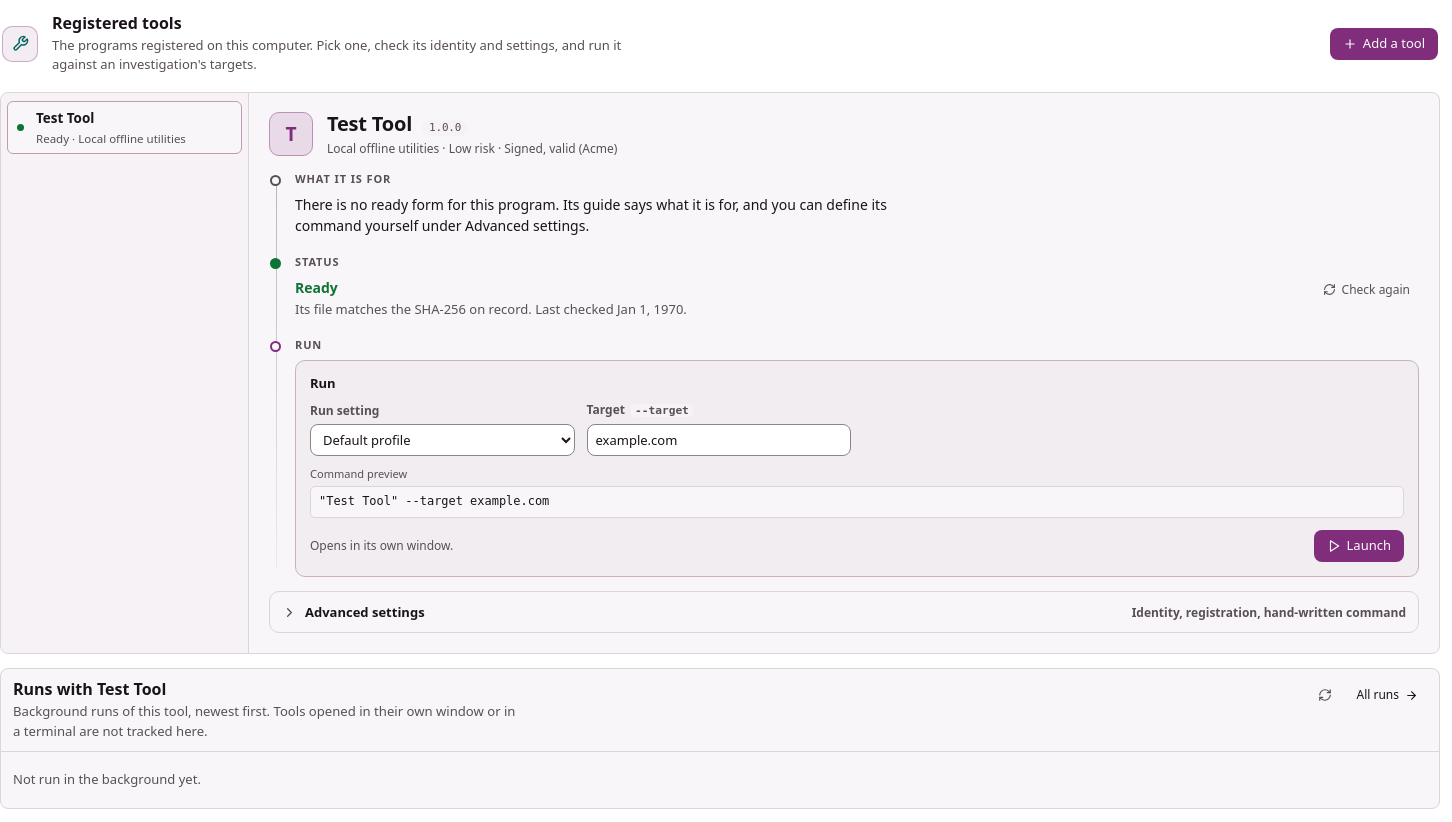
it: ToolLabPanel Launch router › launchKind "gui" opens the tool as a detached external process via supervisor.launchDetached
Step 1. Click the button "Launch" → (1359,546), box left=1314, top=530, right=1404, bottom=562
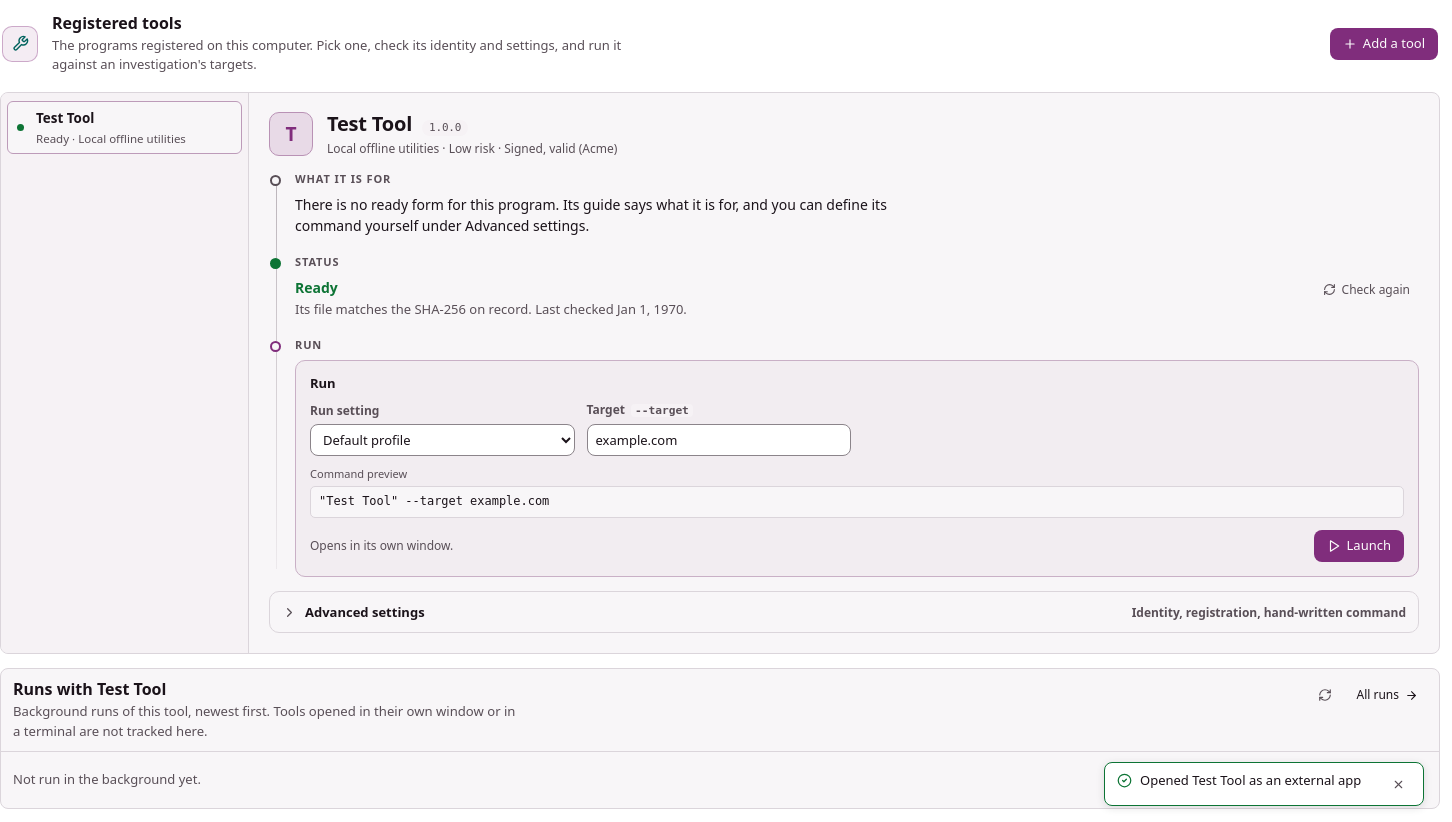
Result: the text "Opened Test Tool as an external app" is shown at left=1140, top=771, right=1377, bottom=790
